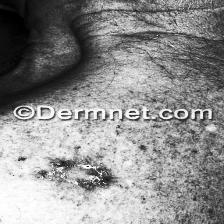Potentially Malignant Skin Tumors: (47, 148, 133, 192)
